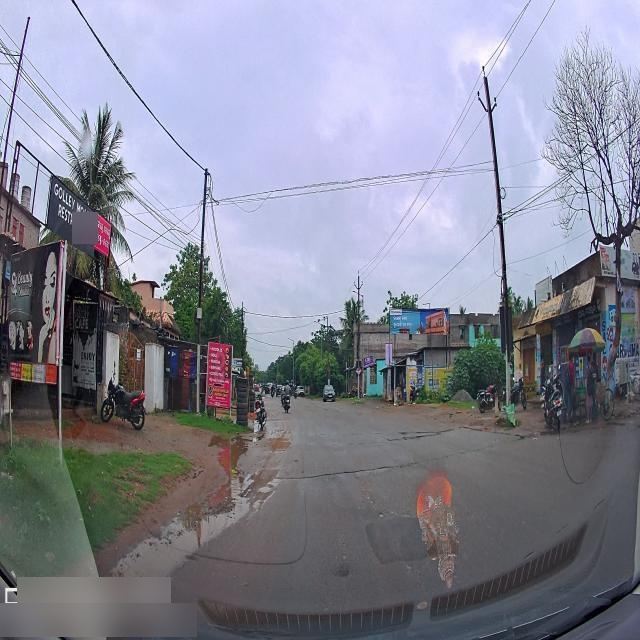pothole: (118, 504, 247, 586), (222, 480, 274, 512), (212, 432, 247, 478), (262, 430, 292, 452)
